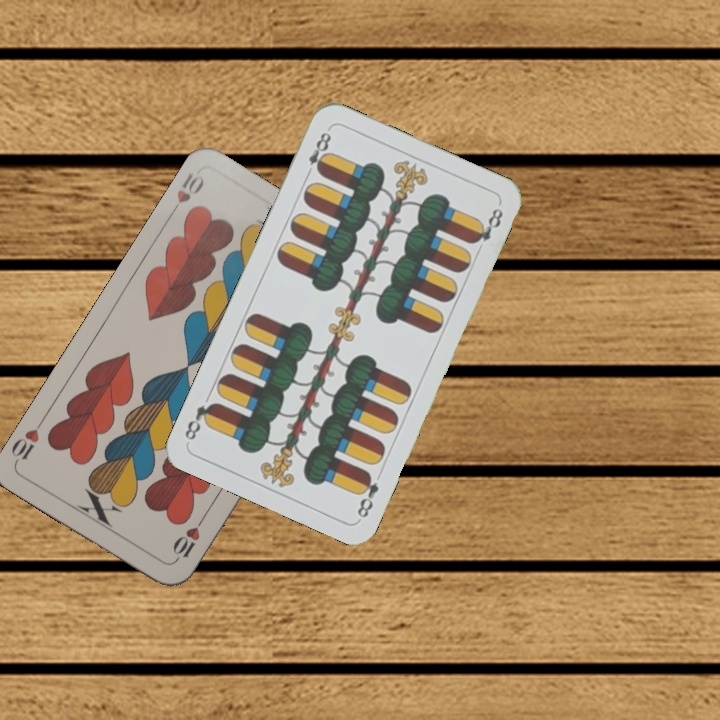E8: (301, 128, 334, 180), (353, 467, 382, 521)
H10: (165, 169, 207, 219), (168, 513, 207, 565)
